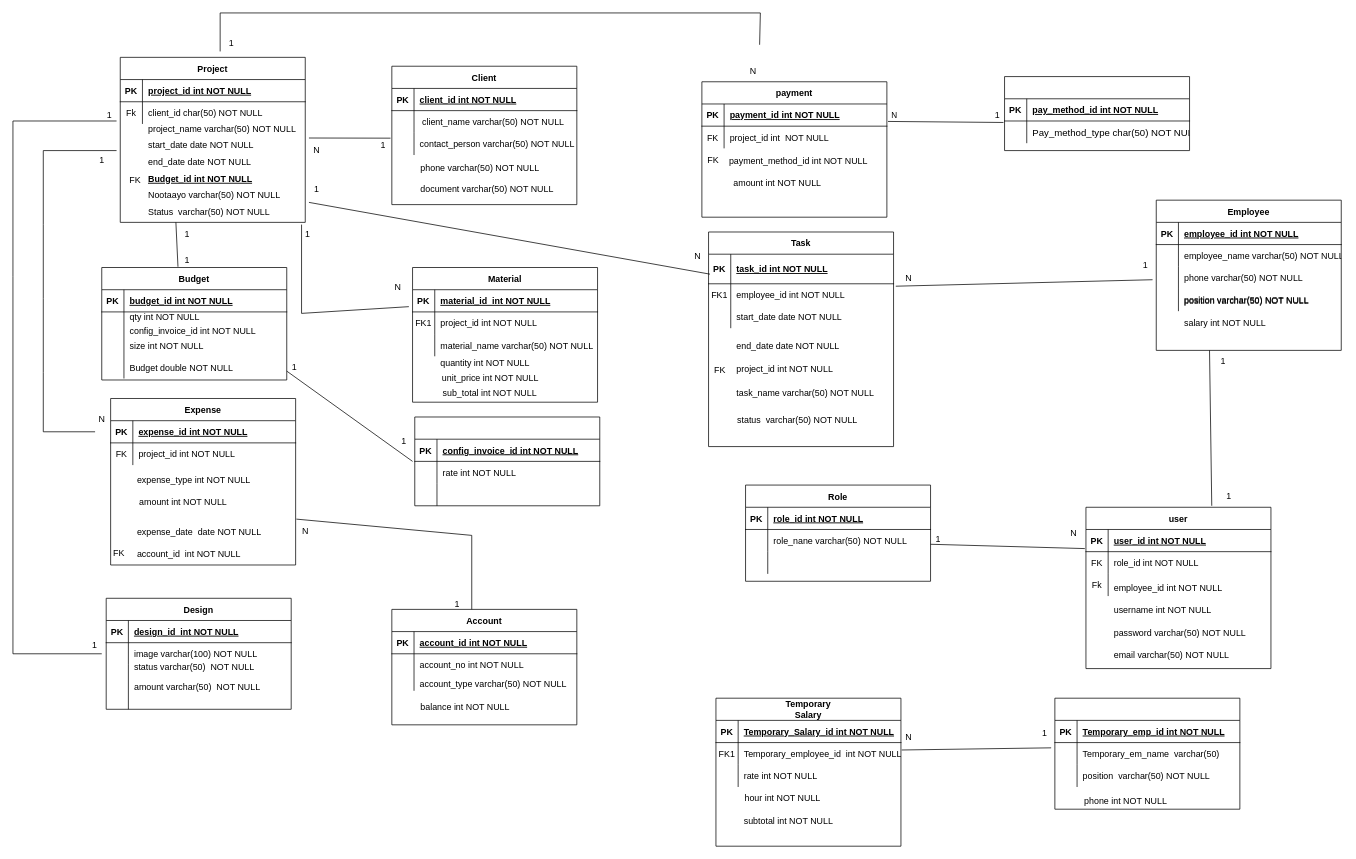
Image size: 1356x859. Some labels were removed from this diagram. The shapes that lost their labels are listed below. From the top down, each one's box as (x1, y1, x2, y2) in pixels, then its label:
(1004, 76, 1190, 151): payment Method
(414, 416, 600, 506): Invoice Config
(1054, 697, 1240, 809): Temporary Employee
